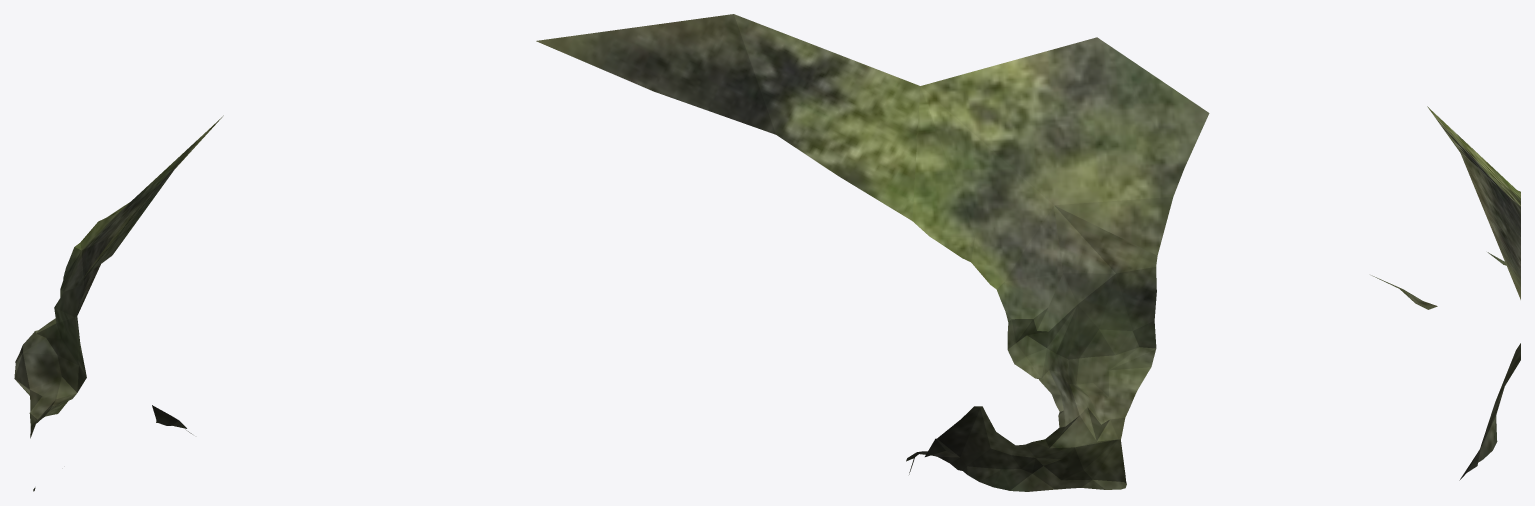
3 views of the same model, side by side, from view 1: azimuth 30°, elevation 25°; view 2: azimuth 150°, elevation 25°; view 3: azimuth 270°, elevation 25° (orthographic). The views are drawn at different scales.
Bounding box in the file's own units: 11.04 × 7.59 × 4.43.
Materials: 1 (1 with a texture image).
